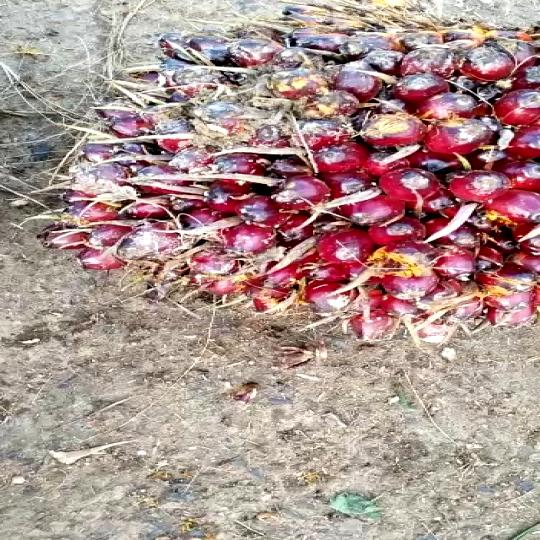kurang masak: (84, 17, 540, 336)
